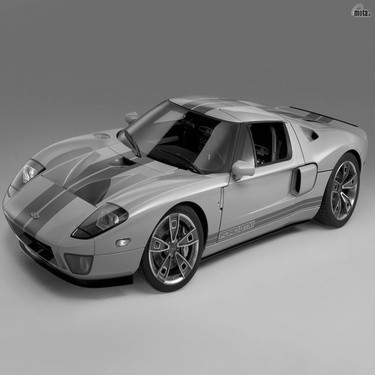car: (5, 87, 370, 297)
